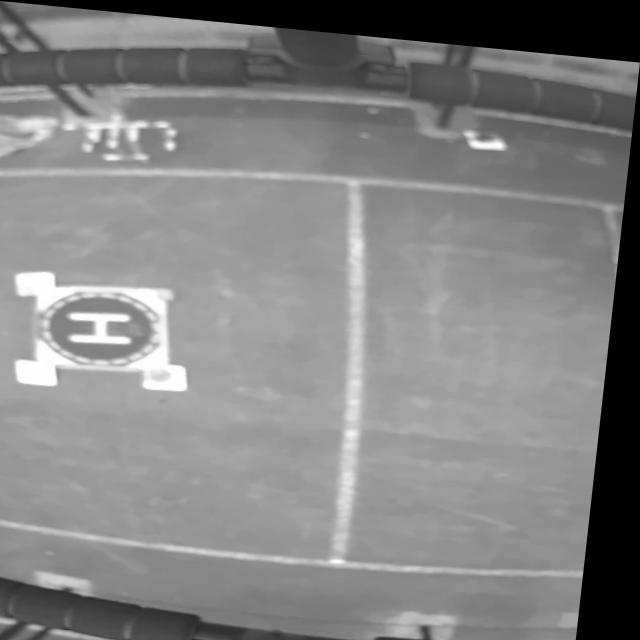Helipad: (74, 308, 140, 341)
